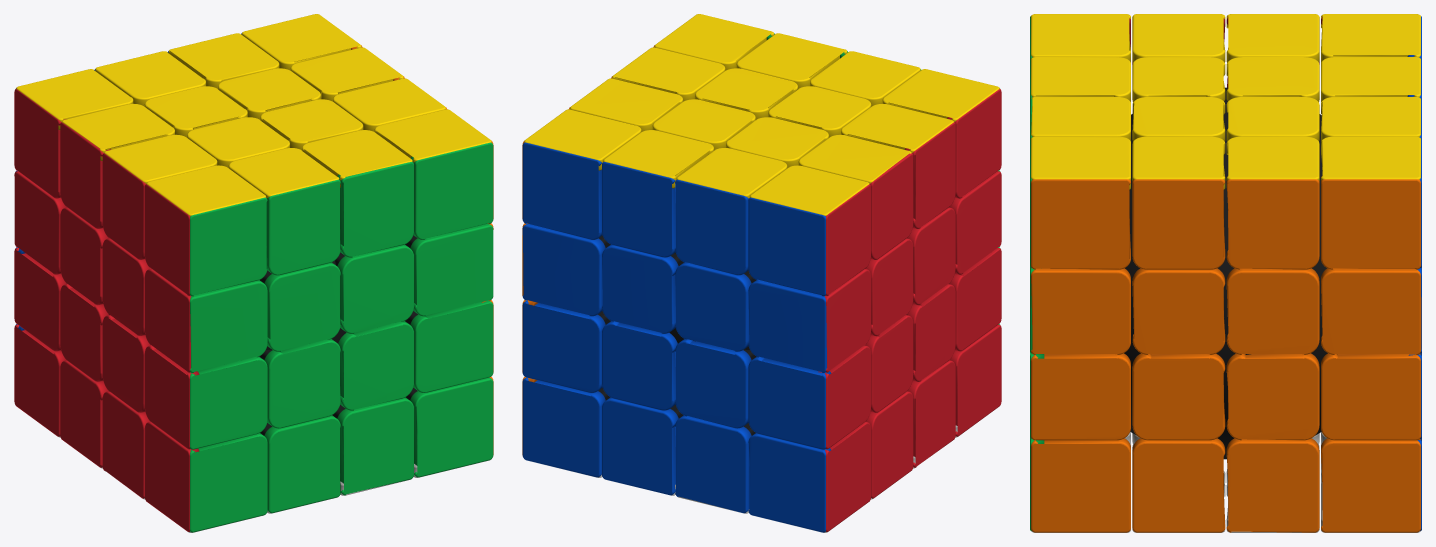
3 views of the same model, side by side, from view 1: azimuth 30°, elevation 25°; view 2: azimuth 150°, elevation 25°; view 3: azimuth 270°, elevation 25° (orthographic). The views are drawn at different scales.
Visible parts, largest first — view 1: piece_-1.5,1.5,1.5, piece_-1.5,-1.5,1.5, piece_1.5,1.5,1.5, piece_-1.5,-0.5,1.5, piece_-1.5,0.5,1.5, piece_0.5,1.5,1.5, piece_-0.5,1.5,1.5, piece_-1.5,1.5,-1.5, piece_1.5,-1.5,1.5, piece_-1.5,1.5,-0.5, piece_-1.5,1.5,0.5, piece_1.5,-0.5,1.5 (+25 smaller); view 2: piece_-1.5,1.5,-1.5, piece_-1.5,-1.5,-1.5, piece_1.5,1.5,-1.5, piece_-1.5,-0.5,-1.5, piece_-1.5,0.5,-1.5, piece_0.5,1.5,-1.5, piece_-0.5,1.5,-1.5, piece_-1.5,1.5,1.5, piece_1.5,-1.5,-1.5, piece_-1.5,1.5,0.5, piece_-1.5,1.5,-0.5, piece_1.5,-0.5,-1.5 (+25 smaller); view 3: piece_1.5,1.5,-1.5, piece_1.5,1.5,1.5, piece_1.5,1.5,0.5, piece_1.5,1.5,-0.5, piece_1.5,-1.5,1.5, piece_1.5,-1.5,-1.5, piece_1.5,-0.5,1.5, piece_1.5,-0.5,-1.5, piece_1.5,-1.5,-0.5, piece_1.5,-1.5,0.5, piece_1.5,0.5,-1.5, piece_1.5,0.5,1.5 (+17 smaller).
Part boxes in pixels (x1,y1,x2,y2): piece_-1.5,1.5,1.5: [144, 165, 267, 296]; piece_-1.5,-1.5,1.5: [144, 421, 267, 532]; piece_1.5,1.5,1.5: [374, 109, 493, 239]; piece_-1.5,-0.5,1.5: [144, 345, 267, 449]; piece_-1.5,0.5,1.5: [144, 269, 267, 372]; piece_0.5,1.5,1.5: [302, 130, 413, 257]; piece_-0.5,1.5,1.5: [228, 148, 340, 275]; piece_-1.5,1.5,-1.5: [14, 69, 133, 198]; piece_1.5,-1.5,1.5: [405, 376, 493, 477]; piece_-1.5,1.5,-0.5: [60, 103, 174, 228]; piece_-1.5,1.5,0.5: [102, 134, 217, 259]; piece_1.5,-0.5,1.5: [405, 300, 493, 392]; piece_-1.5,1.5,-1.5: [748, 165, 871, 296]; piece_-1.5,-1.5,-1.5: [748, 421, 871, 532]; piece_1.5,1.5,-1.5: [522, 109, 641, 239]; piece_-1.5,-0.5,-1.5: [748, 345, 871, 449]; piece_-1.5,0.5,-1.5: [748, 269, 871, 372]; piece_0.5,1.5,-1.5: [602, 130, 713, 257]; piece_-0.5,1.5,-1.5: [675, 148, 787, 275]; piece_-1.5,1.5,1.5: [882, 69, 1001, 198]; piece_1.5,-1.5,-1.5: [522, 376, 610, 477]; piece_-1.5,1.5,0.5: [841, 103, 955, 228]; piece_-1.5,1.5,-0.5: [798, 134, 913, 259]; piece_1.5,-0.5,-1.5: [522, 300, 610, 392]; piece_1.5,1.5,-1.5: [1321, 136, 1421, 269]; piece_1.5,1.5,1.5: [1030, 136, 1130, 269]; piece_1.5,1.5,0.5: [1132, 136, 1225, 269]; piece_1.5,1.5,-0.5: [1226, 136, 1319, 269]; piece_1.5,-1.5,1.5: [1030, 438, 1130, 532]; piece_1.5,-1.5,-1.5: [1321, 438, 1421, 532]; piece_1.5,-0.5,1.5: [1030, 352, 1130, 440]; piece_1.5,-0.5,-1.5: [1321, 352, 1421, 440]; piece_1.5,-1.5,-0.5: [1226, 438, 1319, 532]; piece_1.5,-1.5,0.5: [1132, 438, 1225, 532]; piece_1.5,0.5,-1.5: [1321, 267, 1421, 354]; piece_1.5,0.5,1.5: [1030, 267, 1130, 354].
Bounding box in the file's own units: 2 × 2 × 2.
